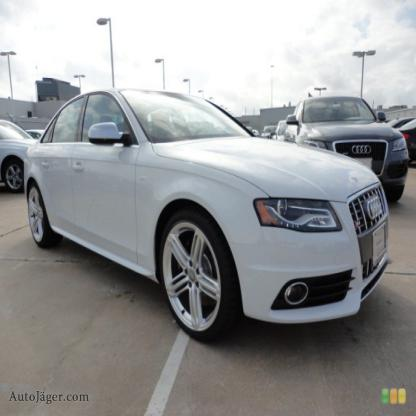Vehicle: (24, 88, 394, 344)
